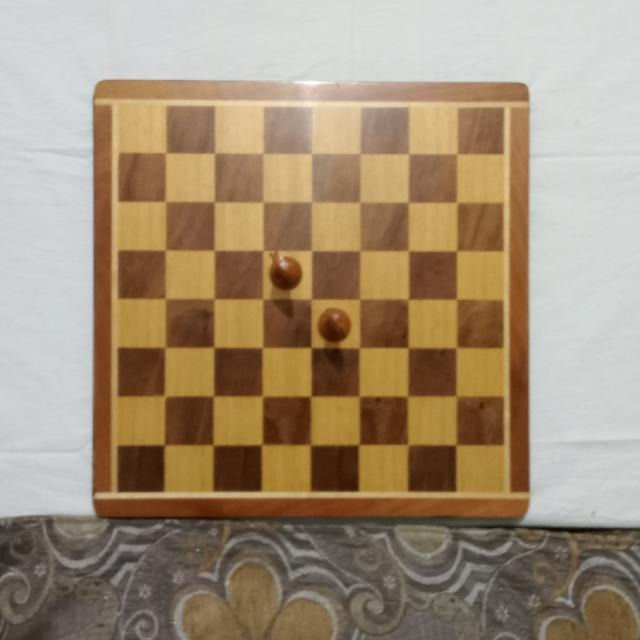white-knight: (265, 249, 304, 290), (315, 303, 353, 340)
